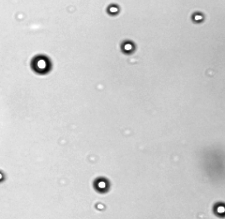Living Cell: (30, 54, 52, 76), (94, 176, 111, 194), (120, 39, 136, 55), (191, 10, 205, 23), (106, 3, 121, 15), (213, 202, 225, 217), (96, 201, 106, 212)
